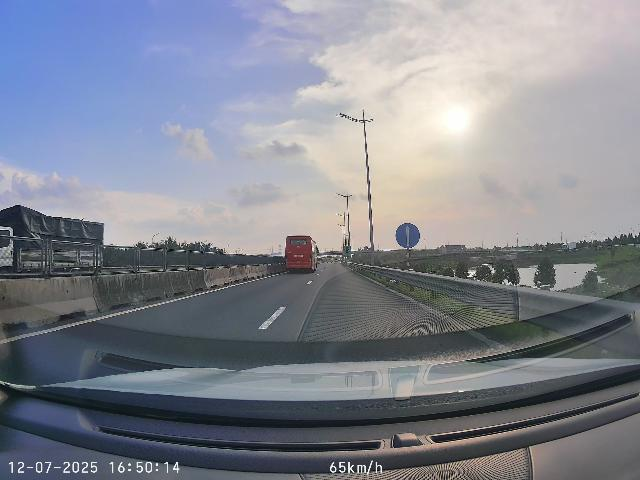301a-cac-xe-chi-duoc-di-thang: (395, 223, 421, 249)
